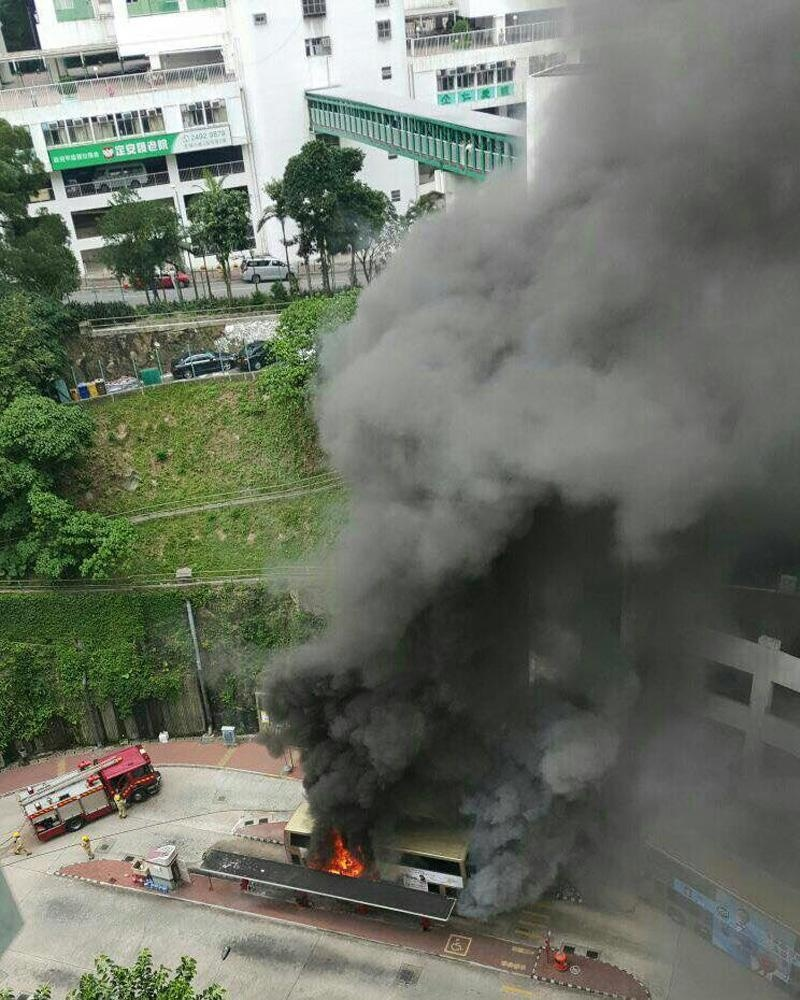fire: (325, 835, 368, 876)
